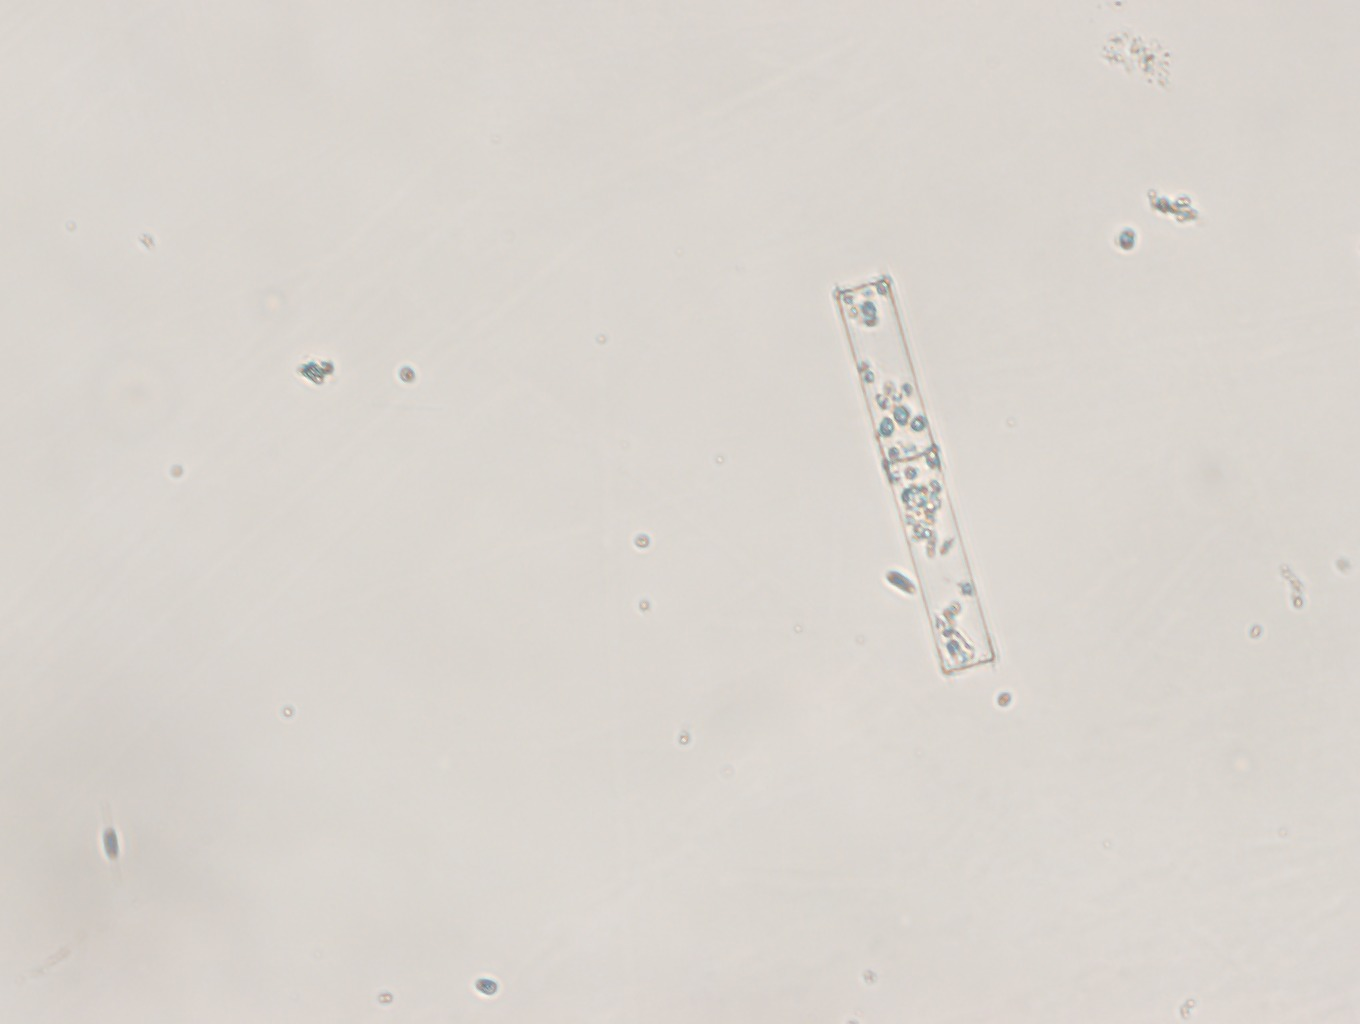guinardia flaccida: (826, 262, 1005, 684)
